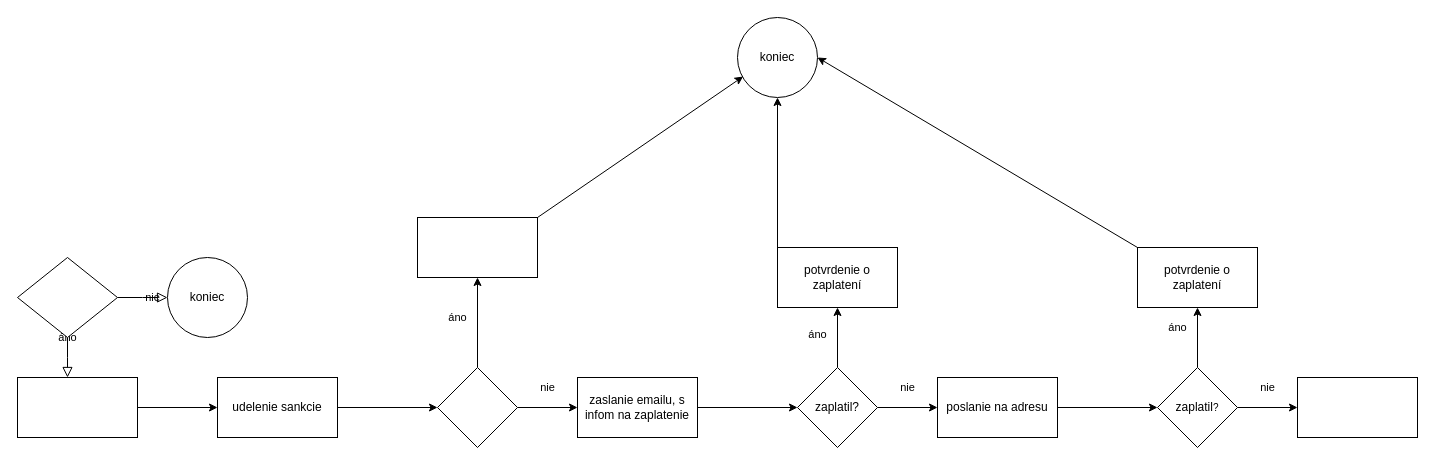
Image size: 1435x465. Some labels were removed from this diagram. Each missing label, with the centre of its shape:
"je zákazník na mieste?" goes at pixel 477 407.
"nové poškodenie?" goes at pixel 67 297.
"právnik" goes at pixel 1357 407.
"zaplatí" goes at pixel 477 247.
"zápis do záznamu knihy" goes at pixel 77 407.
